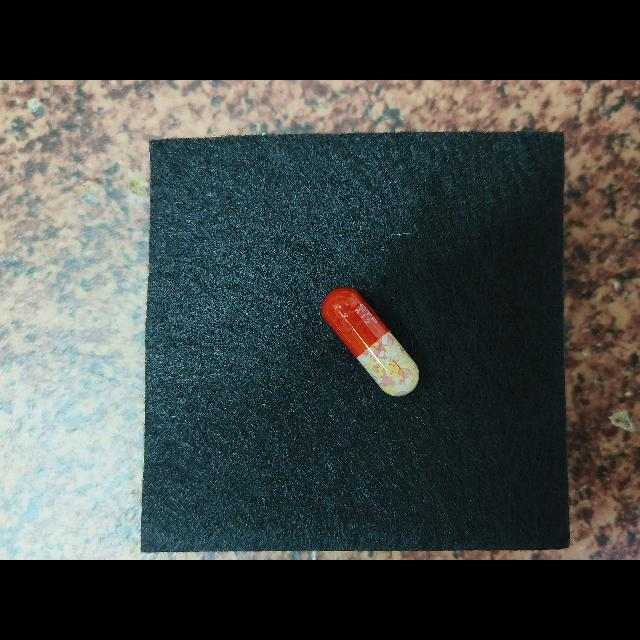Intact Capsule: (322, 287, 419, 396)
